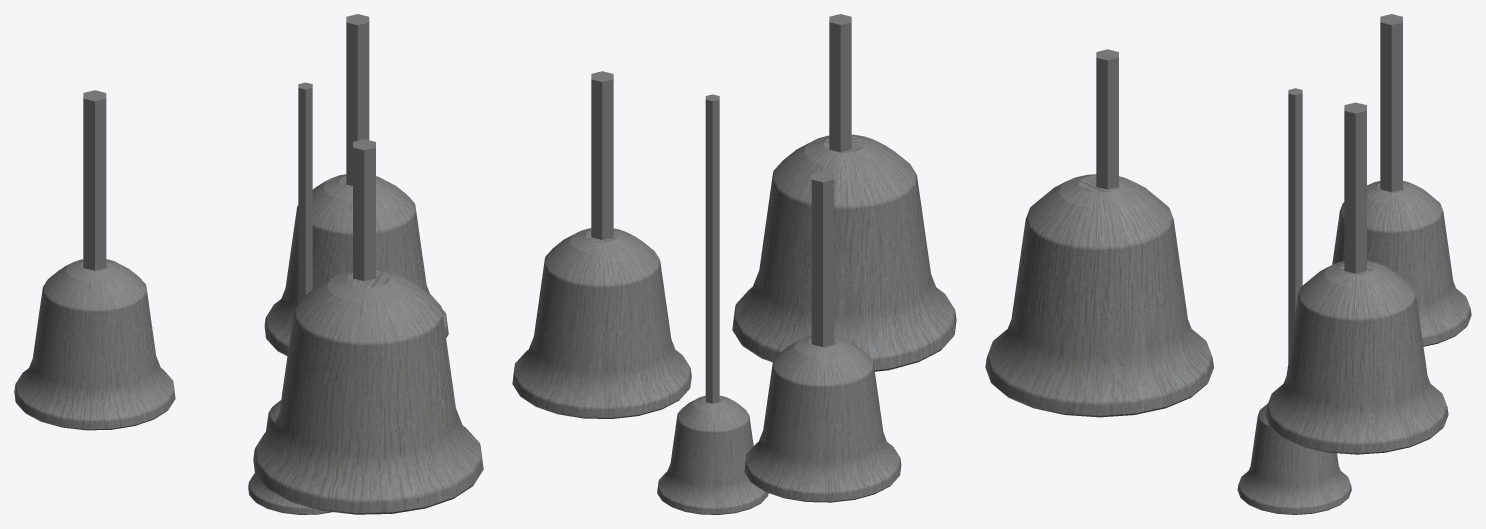
File: Bells.obj
The picture shows the model from 3 angles, left to right: view 1: azimuth 30°, elevation 25°; view 2: azimuth 150°, elevation 25°; view 3: azimuth 270°, elevation 25°; orthographic projection. The views are drawn at different scales.
Visible parts, largest first — view 1: polySurface37; view 2: polySurface37; view 3: polySurface37.
Part boxes in pixels (bbox=[...]): polySurface37: bbox=[14, 14, 483, 514]; polySurface37: bbox=[512, 14, 956, 514]; polySurface37: bbox=[985, 14, 1471, 514].
Bounding box in the file's own units: 50.47 × 53.9 × 54.55.
2 materials, 1 textured.
